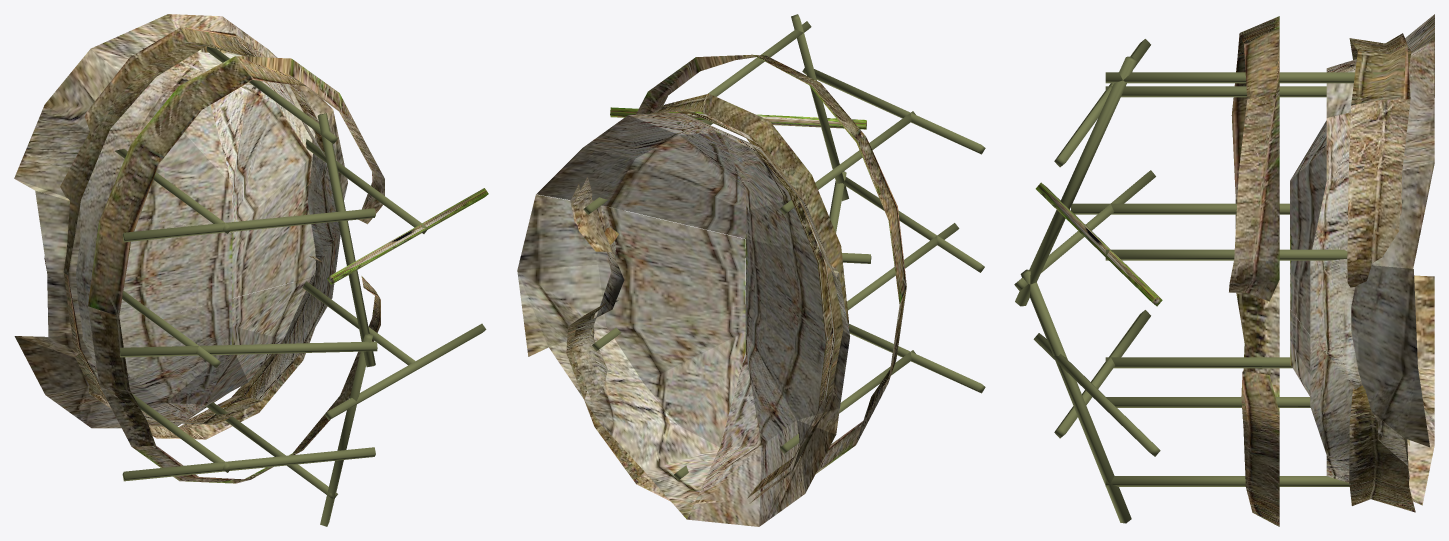
The model's file is hut_000018.obj.
3 renders of one model, left to right at view 1: azimuth 30°, elevation 25°; view 2: azimuth 150°, elevation 25°; view 3: azimuth 270°, elevation 25°, orthographic. The views are drawn at different scales.
Visible parts, largest first — view 1: Sphere.002, Sphere.004, Sphere.003, Sphere.008, Sphere.007, Sphere.001, Sphere.006, Sphere.005, Sphere, Cylinder.008_Cylinder.010, Cylinder.013_Cylinder.014, Cylinder.012_Cylinder.013 (+11 smaller); view 2: Sphere.005, Sphere, Sphere.008, Sphere.006, Sphere.001, Sphere.007, Sphere.003, Sphere.002, Sphere.004, Cylinder.013_Cylinder.014, Cylinder.009, Cylinder.012_Cylinder.013 (+6 smaller); view 3: Sphere.002, Sphere.001, Sphere.003, Sphere.005, Sphere.006, Sphere.008, Cylinder.009, Cylinder.007, Cylinder.001, Cylinder.004, Cylinder, Cylinder.006 (+10 smaller).
Part boxes in pixels (x1=…): Sphere.002: x1=88, y1=56, x2=384, y2=483; Sphere.004: x1=14, y1=14, x2=232, y2=233; Sphere.003: x1=44, y1=27, x2=340, y2=424; Sphere.008: x1=14, y1=299, x2=232, y2=428; Sphere.007: x1=35, y1=190, x2=232, y2=336; Sphere.001: x1=60, y1=27, x2=324, y2=439; Sphere.006: x1=168, y1=14, x2=333, y2=232; Sphere.005: x1=232, y1=110, x2=347, y2=298; Sphere: x1=177, y1=276, x2=314, y2=426; Cylinder.008_Cylinder.010: x1=120, y1=341, x2=377, y2=357; Cylinder.013_Cylinder.014: x1=122, y1=208, x2=375, y2=242; Cylinder.012_Cylinder.013: x1=122, y1=447, x2=375, y2=481; Sphere.005: x1=517, y1=194, x2=745, y2=356; Sphere: x1=549, y1=304, x2=745, y2=519; Sphere.008: x1=687, y1=304, x2=839, y2=526; Sphere.006: x1=536, y1=113, x2=745, y2=238; Sphere.001: x1=566, y1=93, x2=849, y2=509; Sphere.007: x1=745, y1=239, x2=849, y2=407; Sphere.003: x1=572, y1=111, x2=834, y2=504; Sphere.002: x1=636, y1=54, x2=906, y2=474; Sphere.004: x1=685, y1=114, x2=838, y2=277; Cylinder.013_Cylinder.014: x1=802, y1=68, x2=985, y2=154; Cylinder.009: x1=791, y1=14, x2=848, y2=201; Cylinder.012_Cylinder.013: x1=849, y1=324, x2=985, y2=393; Sphere.002: x1=1229, y1=16, x2=1279, y2=526; Sphere.001: x1=1347, y1=33, x2=1415, y2=512; Sphere.003: x1=1310, y1=45, x2=1411, y2=482; Sphere.005: x1=1290, y1=236, x2=1429, y2=447; Sphere.006: x1=1290, y1=39, x2=1434, y2=268; Sphere.008: x1=1290, y1=275, x2=1434, y2=505; Cylinder.009: x1=1015, y1=56, x2=1136, y2=306; Cylinder.007: x1=1020, y1=269, x2=1131, y2=523; Cylinder.001: x1=1105, y1=72, x2=1386, y2=83; Cylinder.004: x1=1105, y1=249, x2=1347, y2=260; Cylinder: x1=1105, y1=476, x2=1349, y2=486; Cylinder.006: x1=1105, y1=357, x2=1292, y2=368.
Size of the model in its own units: 4.43 by 4.88 by 3.84.
